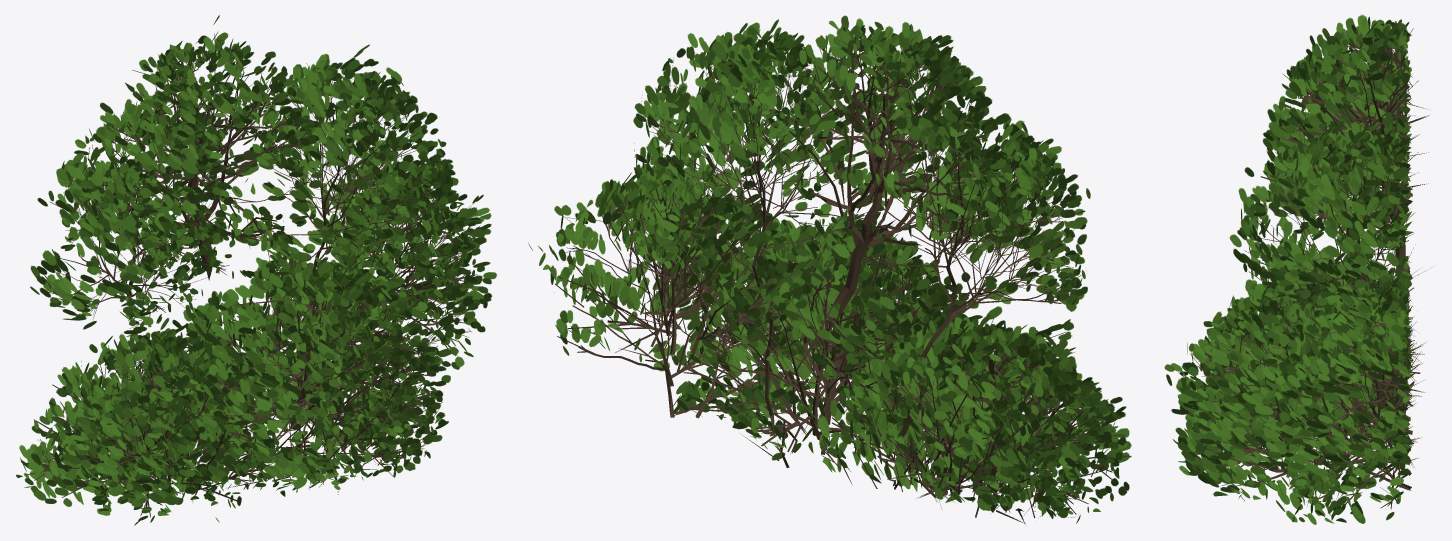
3 renders of one model, left to right at view 1: azimuth 30°, elevation 25°; view 2: azimuth 150°, elevation 25°; view 3: azimuth 270°, elevation 25°, orthographic. The views are drawn at different scales.
Parts seen in each view (by area): view 1: oak 01.001_trunk_Mat.001_0.220; view 2: oak 01.001_trunk_Mat.001_0.220; view 3: oak 01.001_trunk_Mat.001_0.220.
Boxes of the visible parts, <box> form: oak 01.001_trunk_Mat.001_0.220: <box>16,15,496,525</box>; oak 01.001_trunk_Mat.001_0.220: <box>528,15,1131,524</box>; oak 01.001_trunk_Mat.001_0.220: <box>1164,14,1430,524</box>.
Bounding box in the file's own units: 6.21 × 5.06 × 2.92.
Materials: 2 (1 with a texture image).
